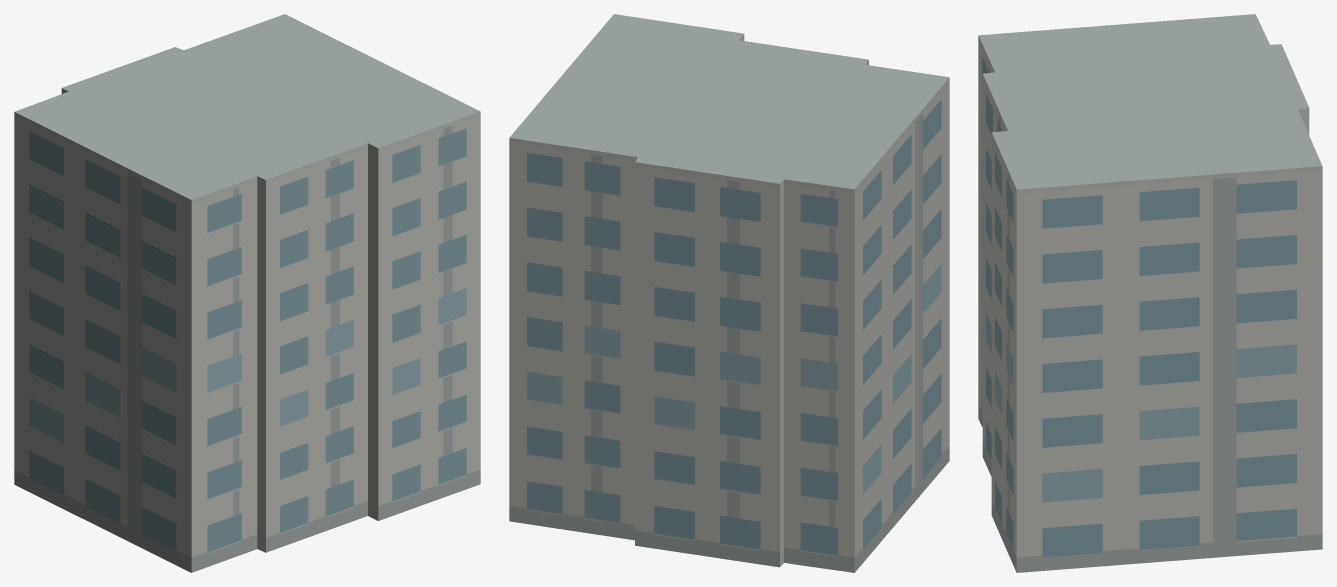
The model's file is survey-upis-32943104.glb.
The picture shows the model from 3 angles, left to right: view 1: azimuth 30°, elevation 25°; view 2: azimuth 150°, elevation 25°; view 3: azimuth 270°, elevation 25°; orthographic projection. The views are drawn at different scales.
Visible parts, largest first — view 1: survey-upis-32943104.tmp; view 2: survey-upis-32943104.tmp; view 3: survey-upis-32943104.tmp.
Boxes of the visible parts, x1=… form: survey-upis-32943104.tmp: x1=14, y1=14, x2=480, y2=572; survey-upis-32943104.tmp: x1=509, y1=14, x2=949, y2=572; survey-upis-32943104.tmp: x1=978, y1=14, x2=1322, y2=572.
Size of the model in its own units: 20.6 by 20.95 by 17.05.
